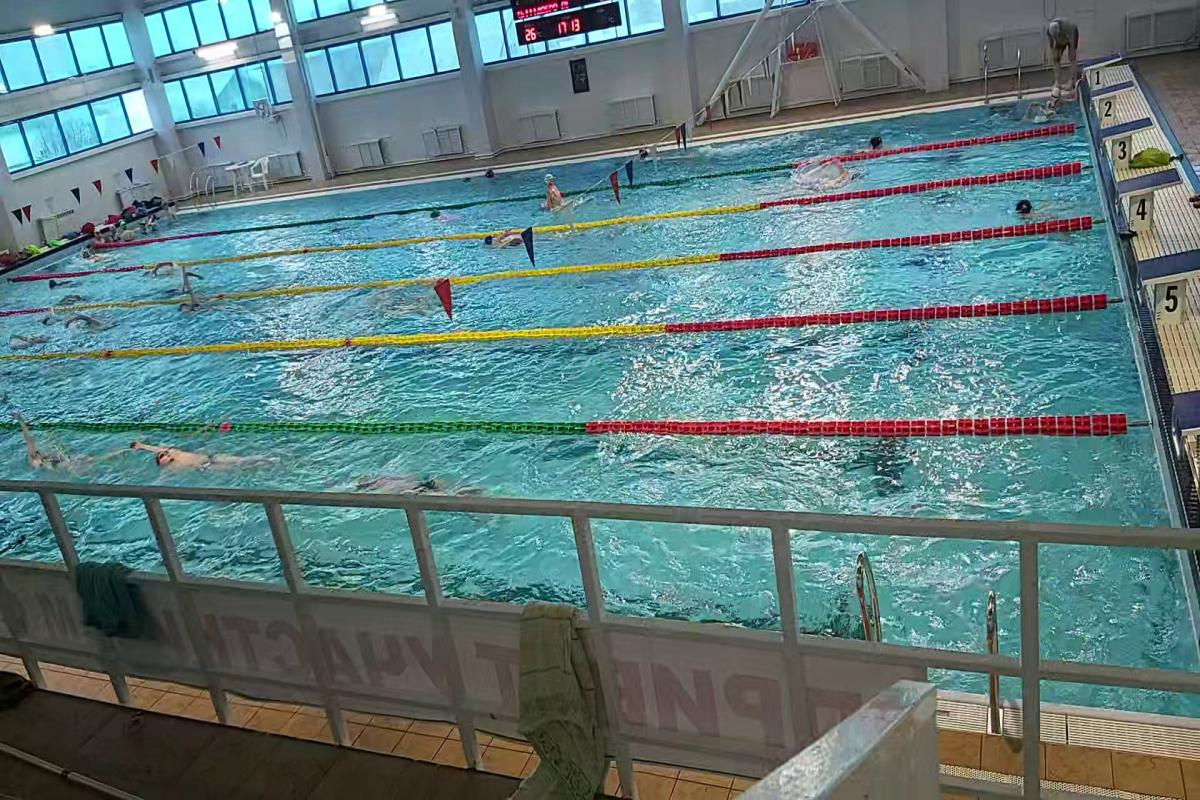swimmer: (119, 429, 270, 479), (343, 461, 486, 496), (8, 424, 103, 476), (802, 155, 871, 188), (66, 308, 126, 336), (537, 168, 571, 216), (1011, 193, 1064, 223), (176, 280, 212, 317), (482, 229, 526, 255)
